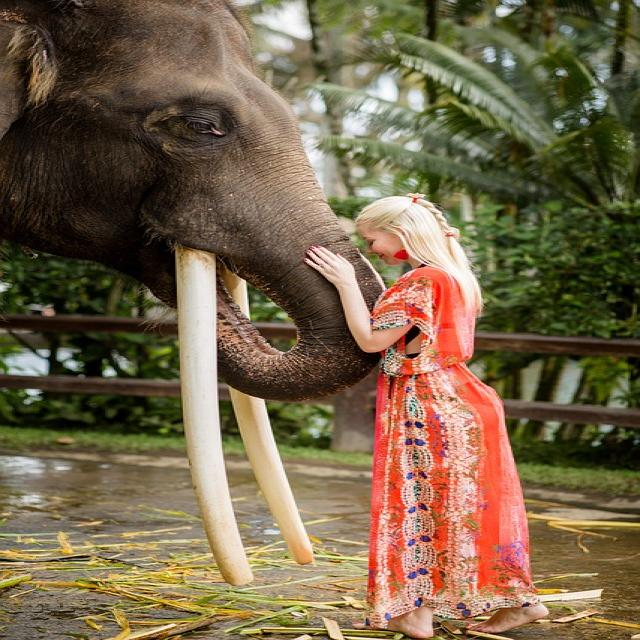Herbivorous: (0, 0, 384, 403)
